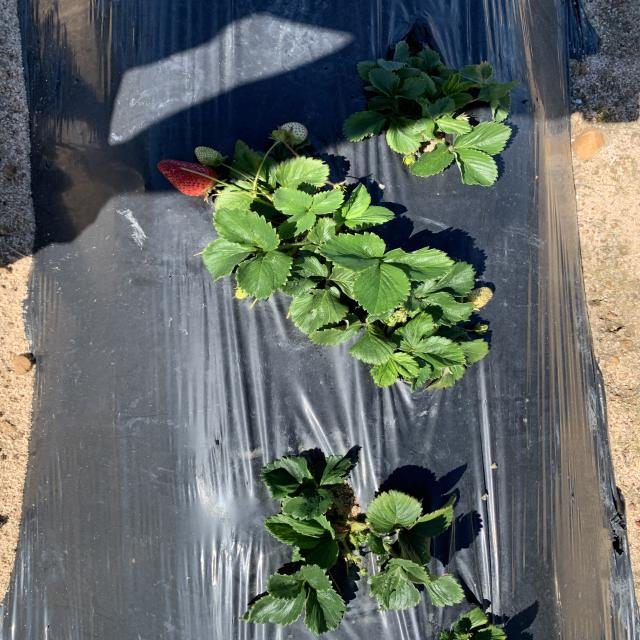unripe: (157, 159, 217, 197)
